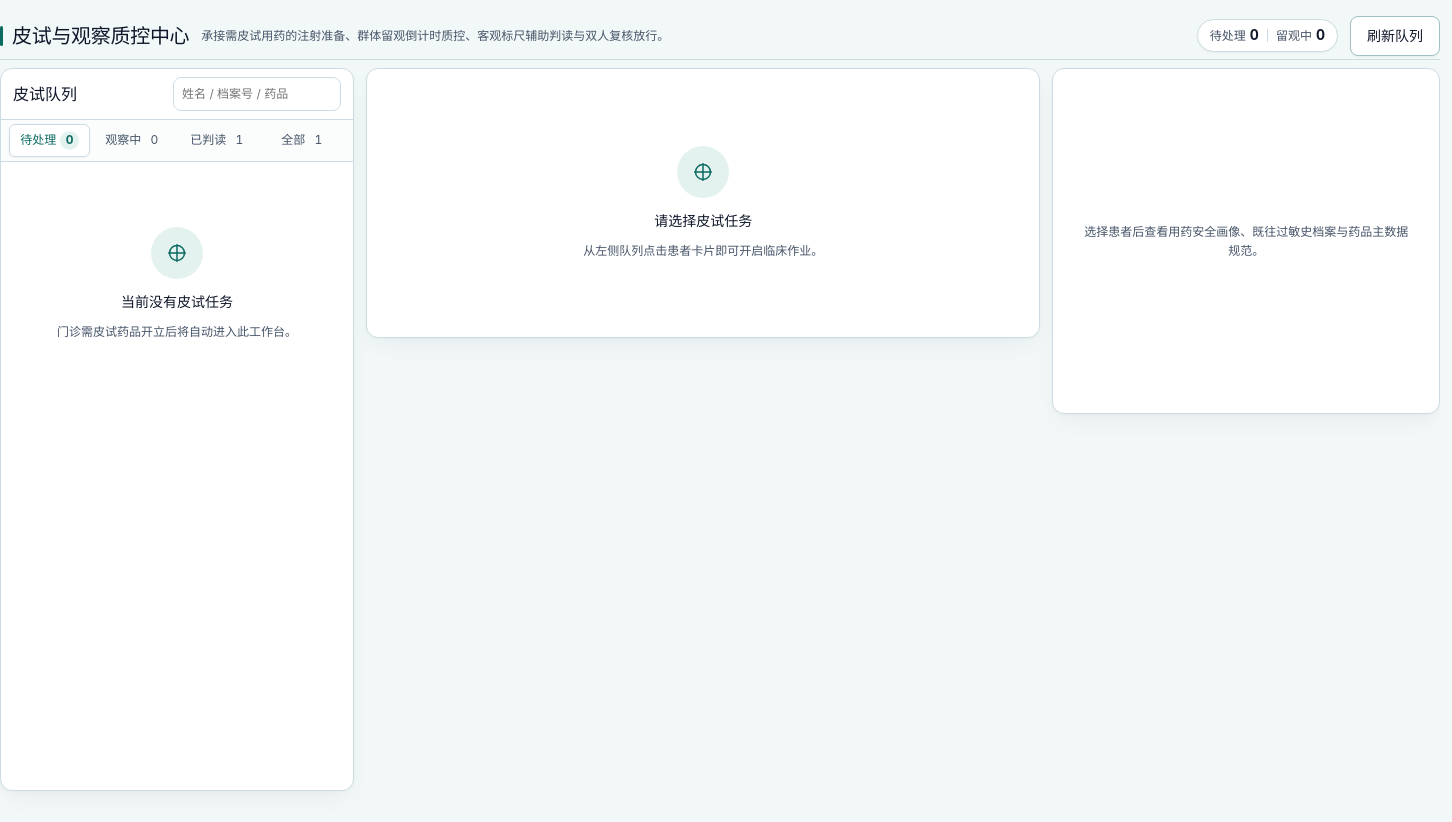
Test: SkinTestManagementWorkspace › renders "未记录" instead of "null mm" when wheal and flare diameters are null
Click the button "已判读 1" at (220, 140), box [179,124,260,157]
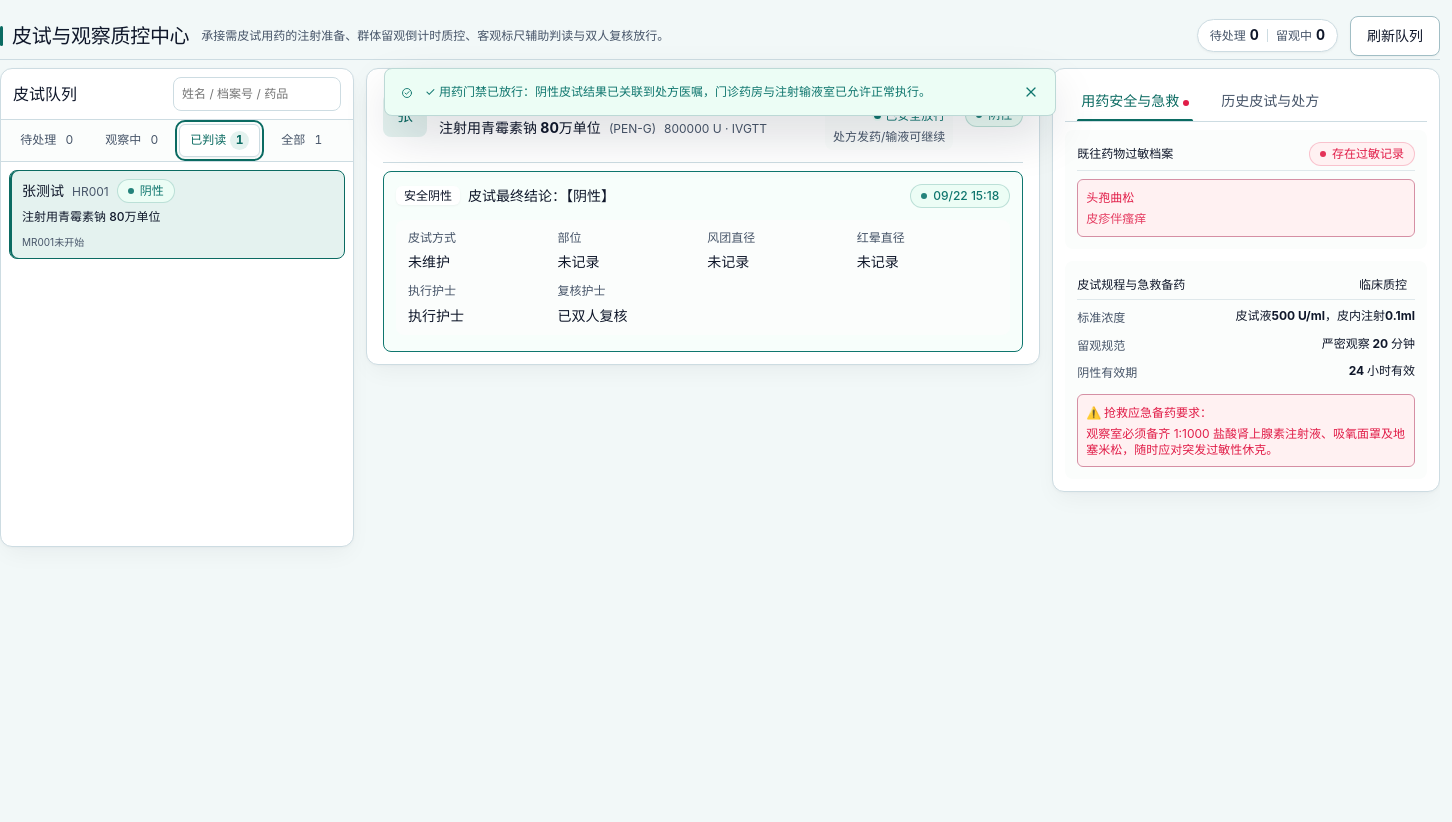
Result: the heading "皮试最终结论：【阴性】" is shown at [468,185,615,206]
